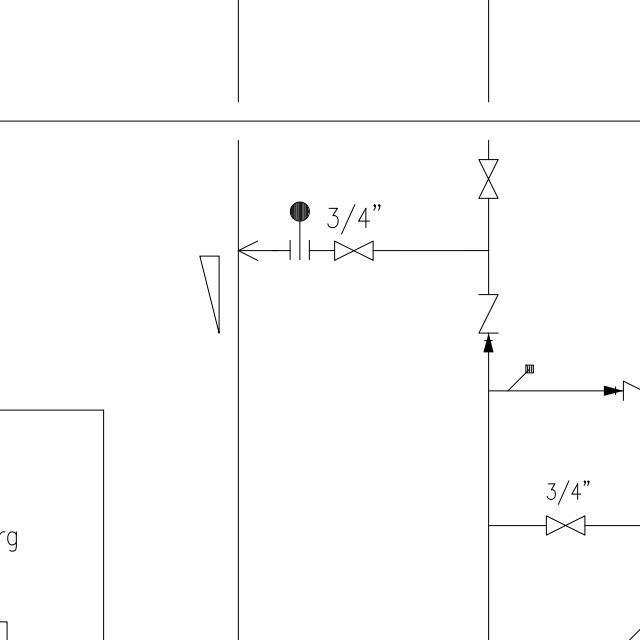GV: (537, 511, 594, 543), (329, 236, 379, 262), (475, 156, 502, 204)
